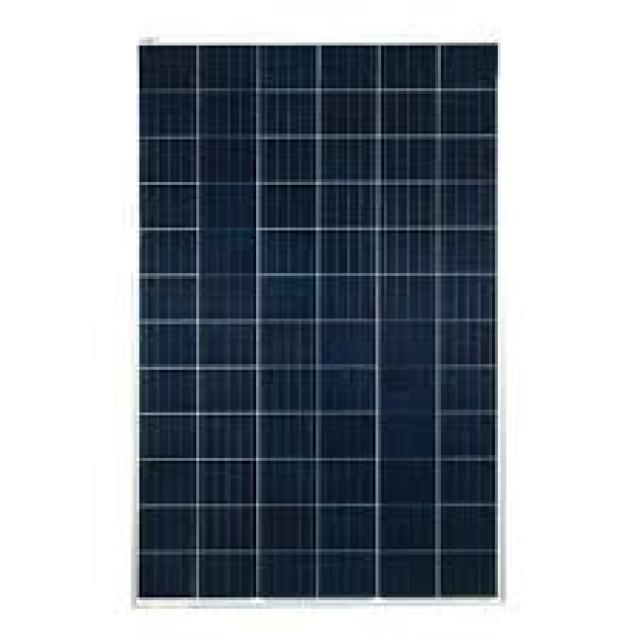Solar: (134, 52, 499, 592)
